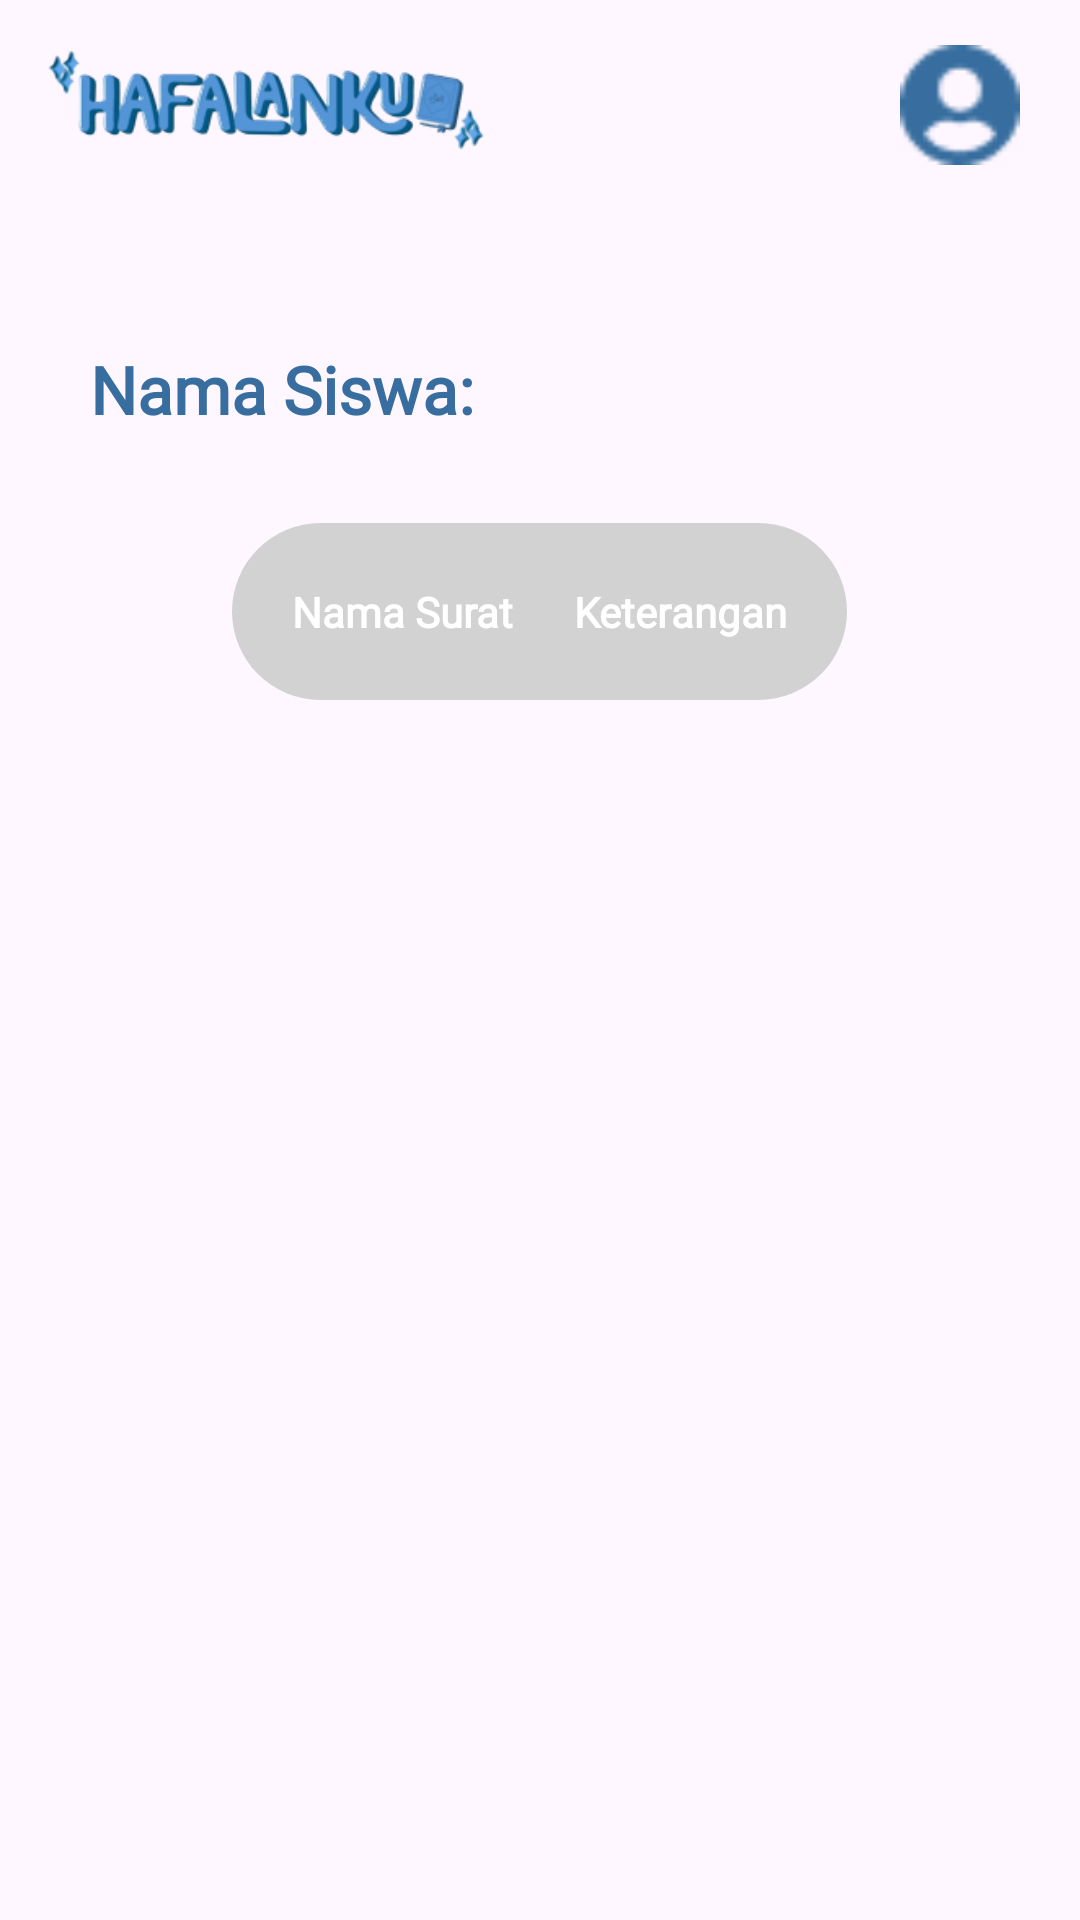

Icon bounding boxes for this 1080x1920 phone screenshot, format (left=x1, top=y1, right=x2, bottom=y2):
profile: (left=900, top=45, right=1020, bottom=165)
